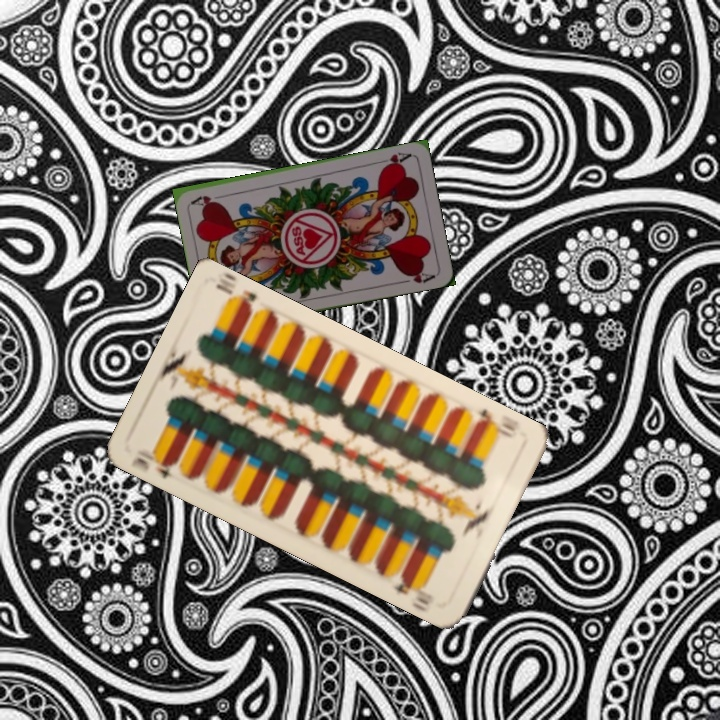E10: (471, 404, 520, 441), (128, 452, 182, 484)
HA: (374, 148, 414, 171)
